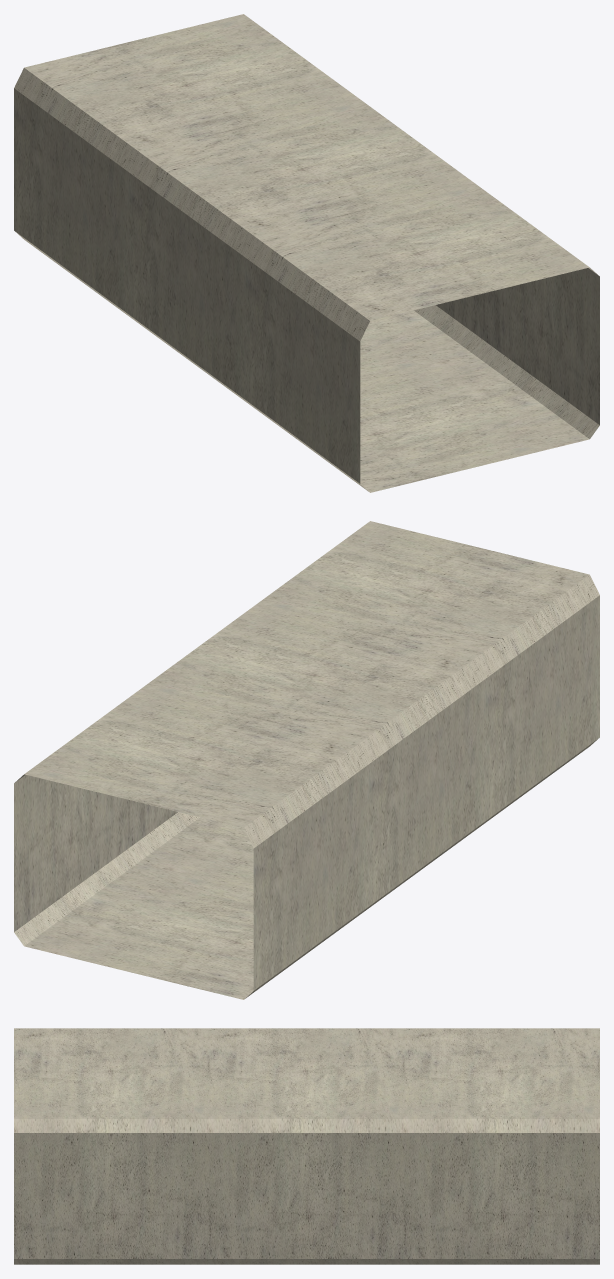
File: FullArchMainBeam-5m.FBX
The picture shows the model from 3 angles, top to bottom: view 1: azimuth 30°, elevation 25°; view 2: azimuth 150°, elevation 25°; view 3: azimuth 270°, elevation 25°; orthographic projection. The views are drawn at different scales.
Visible parts, largest first — view 1: Object002; view 2: Object002; view 3: Object002.
Boxes of the visible parts, box(x1,y1,x2,y2) form: Object002: box(14, 14, 599, 492); Object002: box(14, 521, 599, 999); Object002: box(14, 1028, 599, 1264).
Bounding box in the file's own units: 2 × 1.37 × 5.
